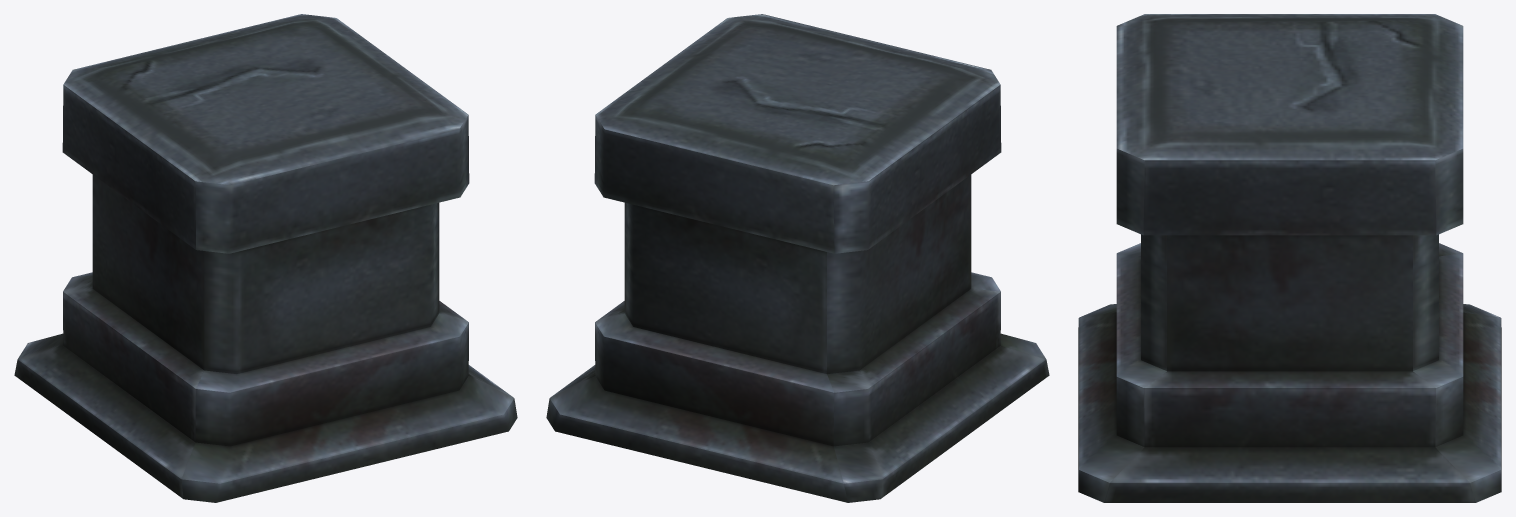
File: B_shikuai005.fbx
3 views of the same model, side by side, from view 1: azimuth 30°, elevation 25°; view 2: azimuth 150°, elevation 25°; view 3: azimuth 270°, elevation 25° (orthographic). The views are drawn at different scales.
Parts seen in each view (by area): view 1: B_shikuai005; view 2: B_shikuai005; view 3: B_shikuai005.
Part boxes in pixels (x1,y1,x2,y2): B_shikuai005: (14, 14, 517, 502); B_shikuai005: (546, 14, 1049, 502); B_shikuai005: (1078, 14, 1501, 502).
Size of the model in its own units: 85.56 by 75.03 by 85.56.
